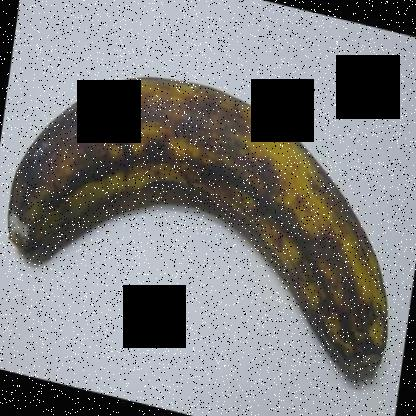overripe: (1, 16, 396, 396)
